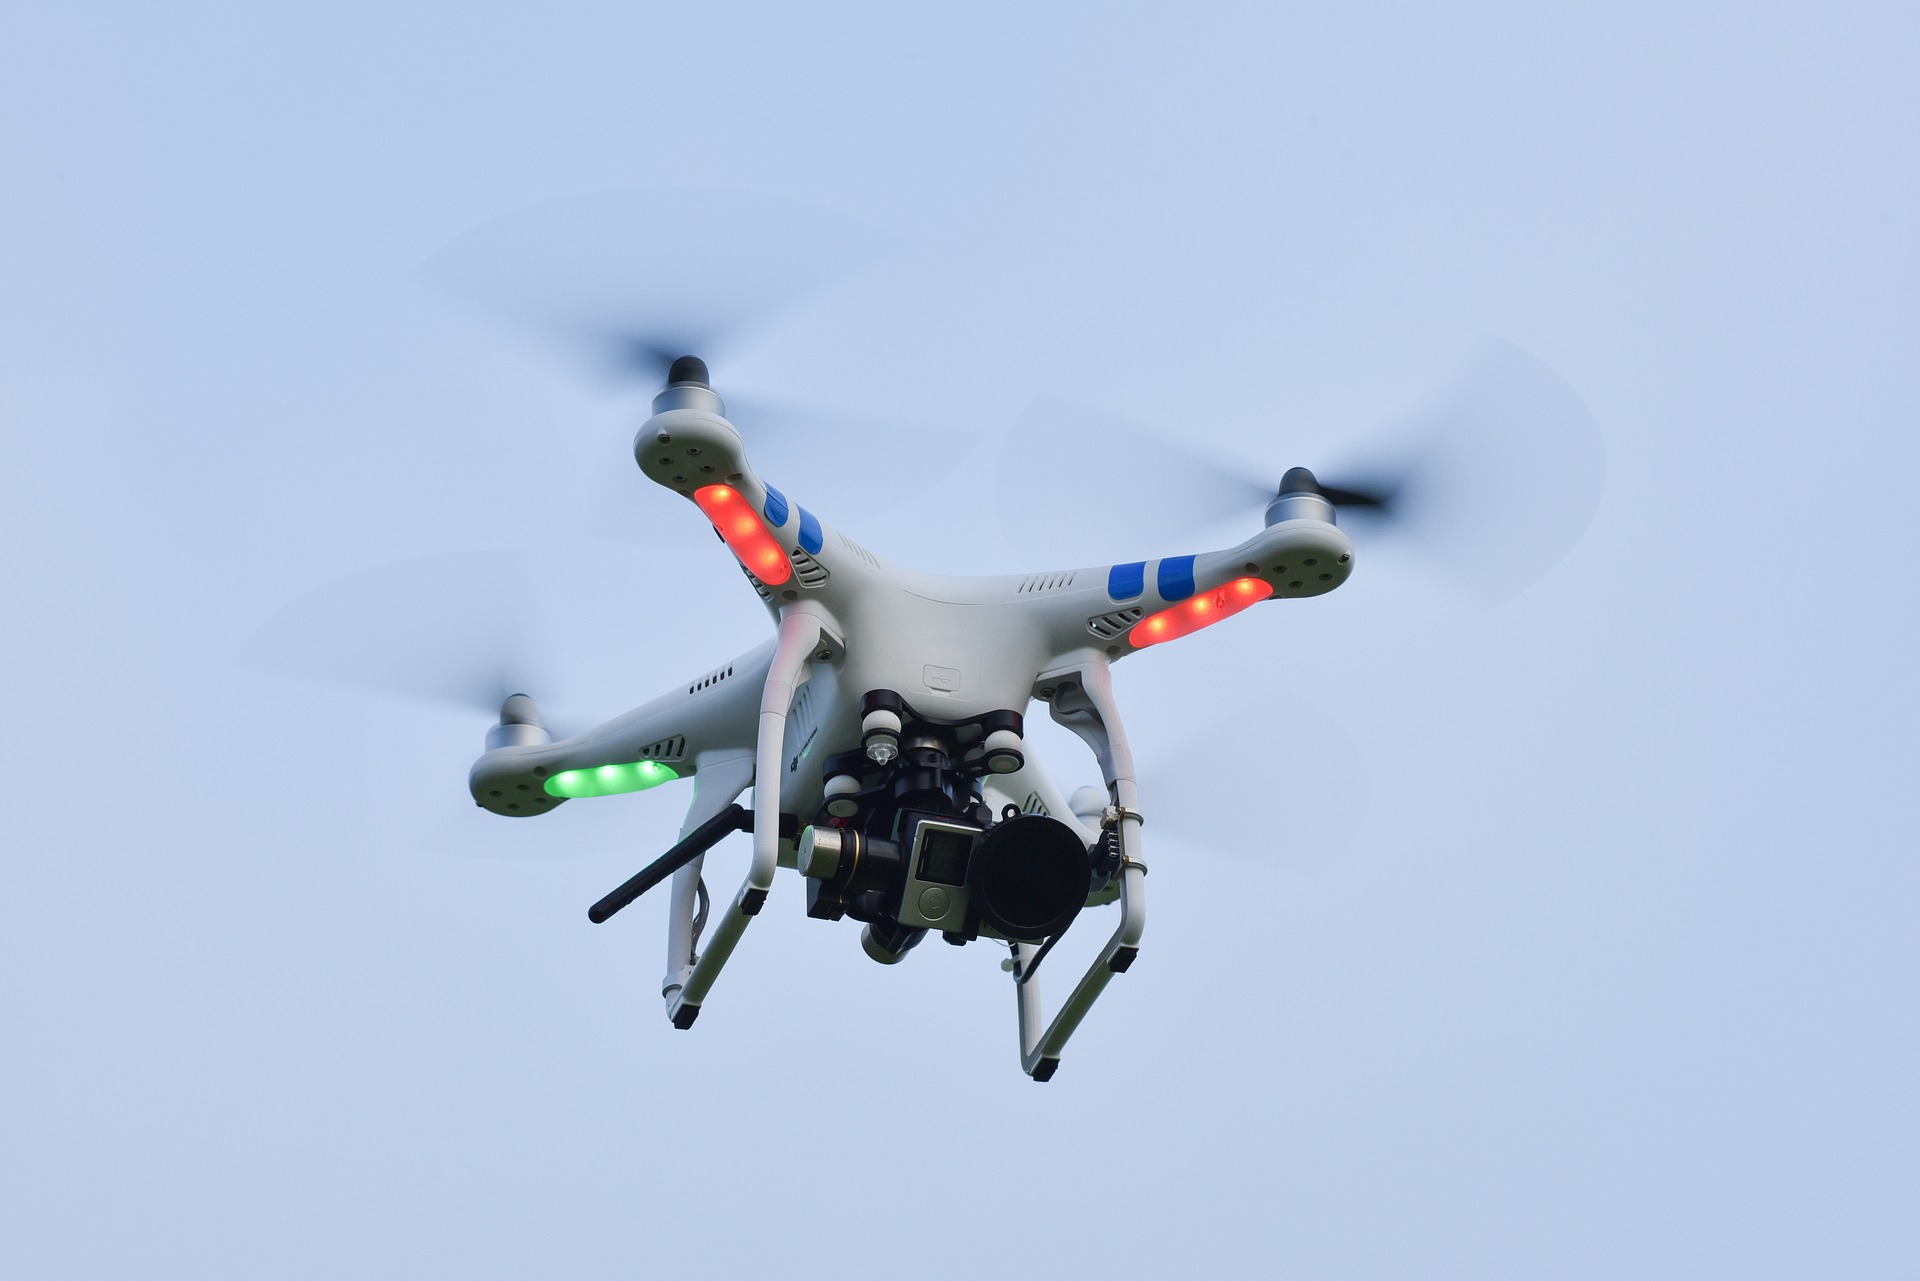drone: (257, 176, 1615, 1087)
